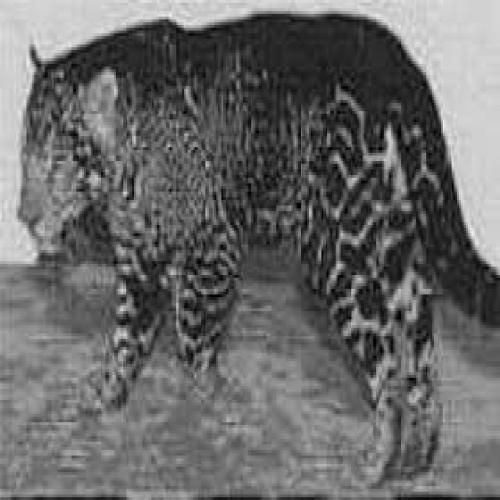jaguar_not-endangered: (23, 23, 481, 467)
